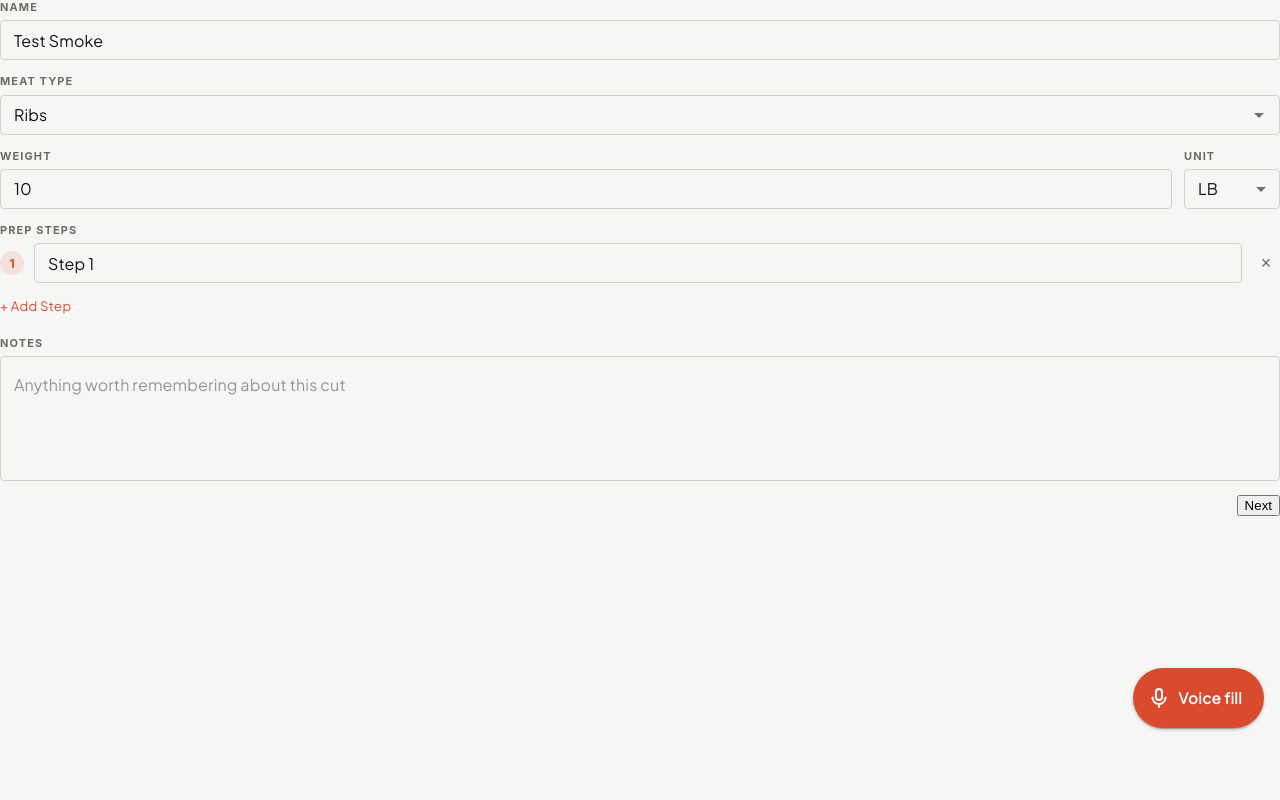
Test: Voice Fill on the pre-smoke screen › tapping Voice fill opens the sheet listening, with the hint, the live transcript and level bars
Expected: the field showing "Test Smoke" is shown, left=0, top=20, right=1279, bottom=60
Click the button "Voice fill".
click(1198, 698)  # box left=1133, top=668, right=1264, bottom=728
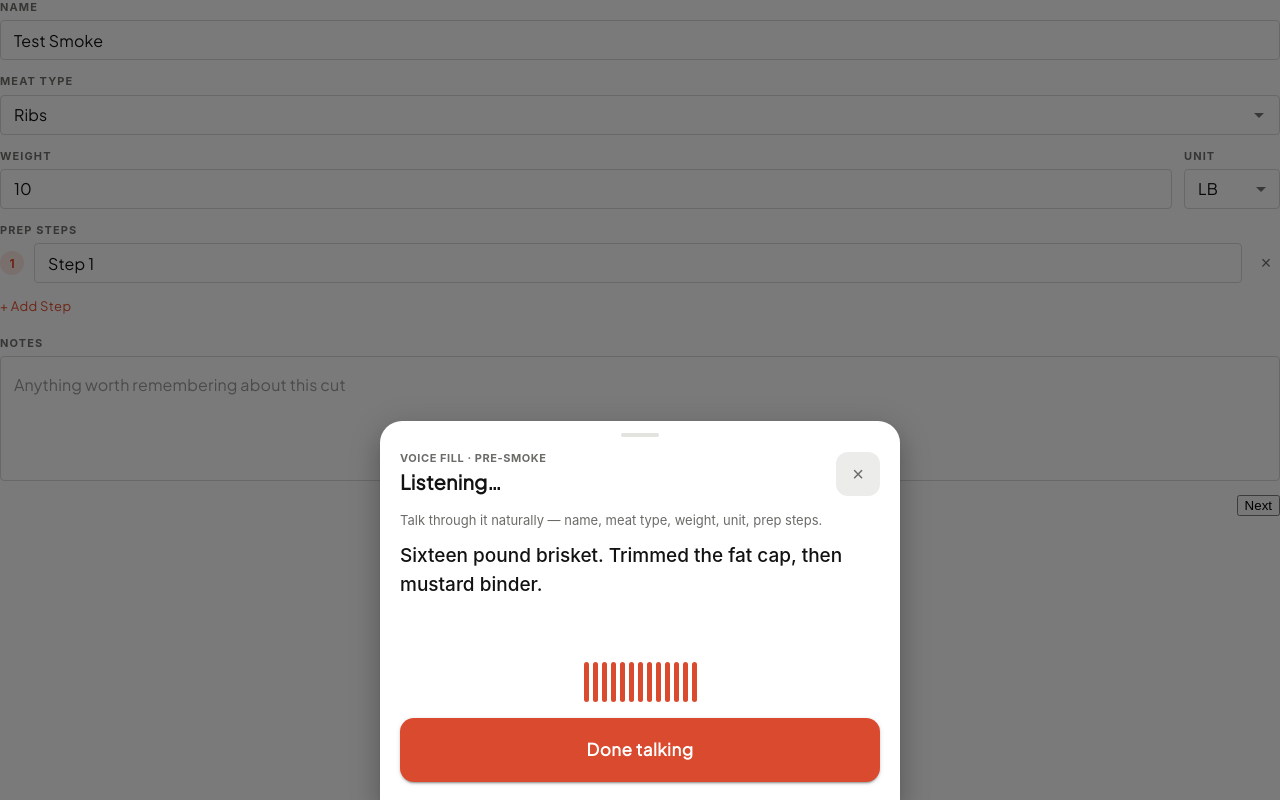
Expected: the heading "Listening…" is shown, left=400, top=468, right=501, bottom=494
Expected: the text "Talk through it naturally — name, meat type, weight, unit, prep steps." is shown, left=400, top=510, right=880, bottom=530
Expected: the element with test id "voice-fill-level-bars" is shown, left=584, top=662, right=696, bottom=702
